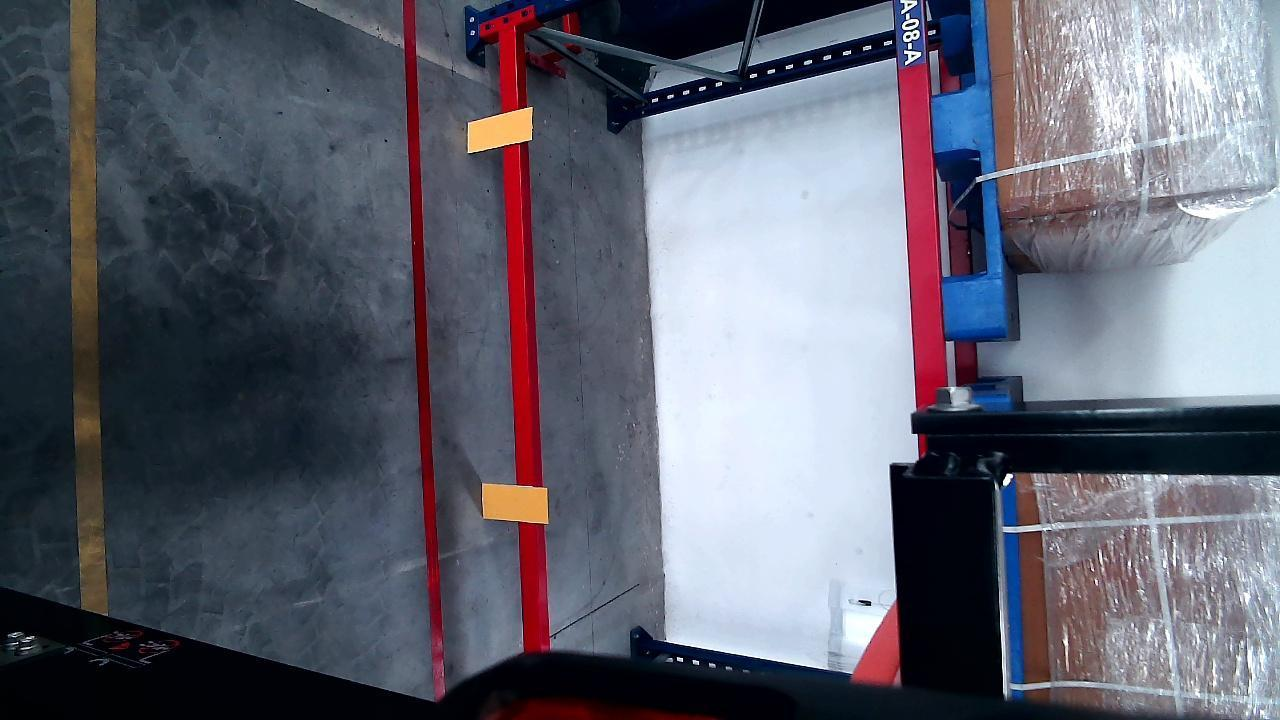h_rack: (496, 27, 547, 661), (891, 1, 945, 404)
orange_strip: (465, 107, 533, 153), (481, 482, 548, 523)
red_line: (403, 0, 448, 703)
small_pallet: (925, 0, 1000, 339)
yellow_line: (68, 0, 103, 613)
